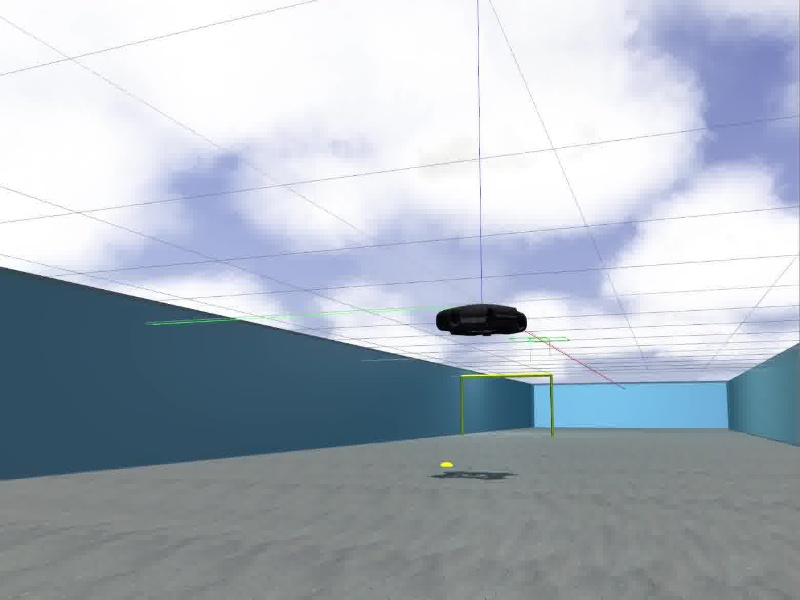gate: (458, 372, 556, 440)
